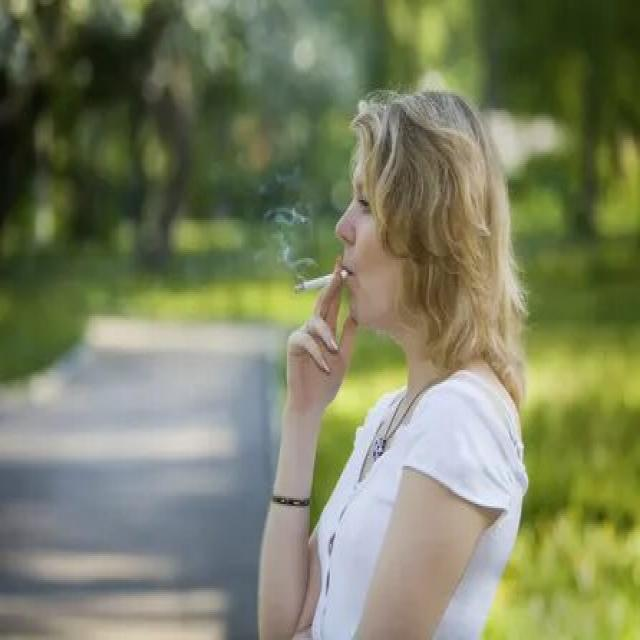cigarette: (291, 262, 359, 302)
